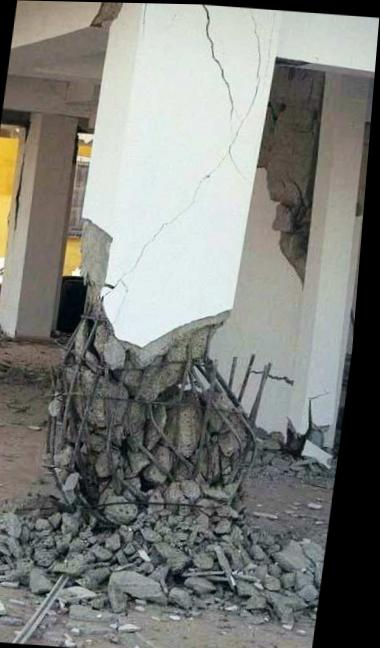crack: (107, 13, 262, 298), (202, 4, 235, 119), (16, 154, 28, 230), (253, 369, 301, 384), (314, 393, 333, 421), (282, 200, 305, 216), (295, 180, 309, 205), (353, 305, 360, 340), (141, 3, 147, 41), (269, 101, 279, 123), (312, 106, 320, 133), (309, 76, 315, 99), (278, 227, 297, 233)
damage: (53, 215, 278, 562), (259, 62, 325, 286), (292, 417, 337, 455), (89, 2, 124, 25)
